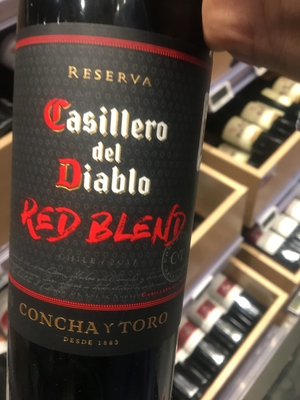casillero del diablo red blend: (10, 4, 211, 400)
